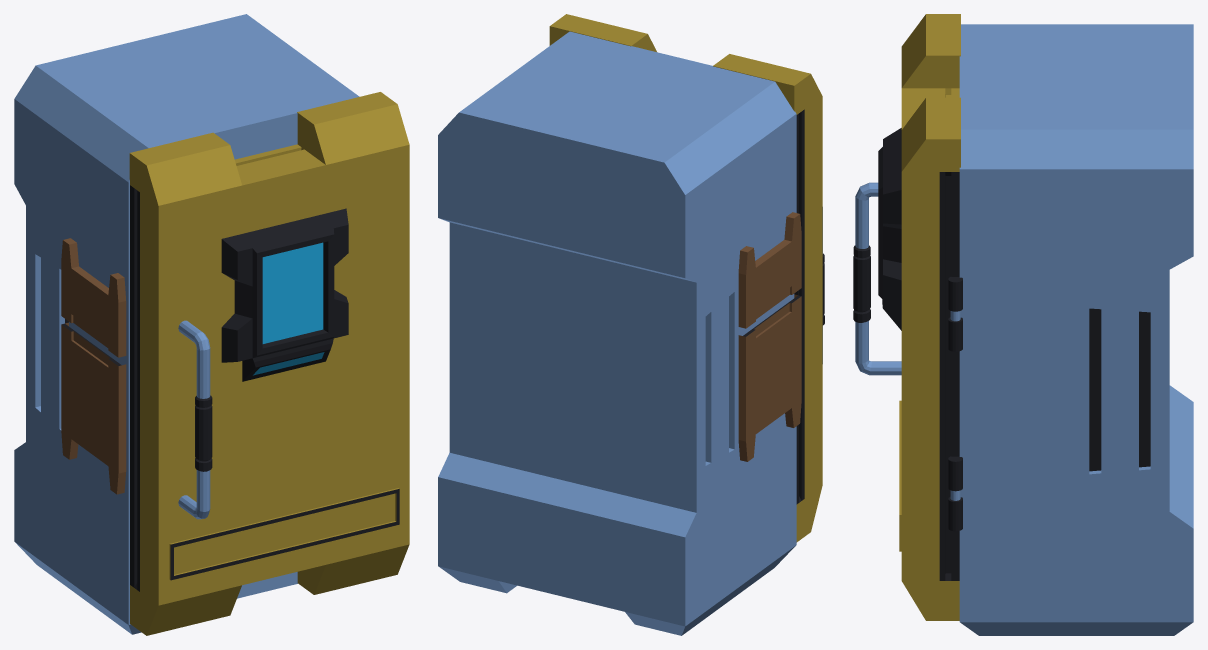
File: Frigo_2.fbx
3 renders of one model, left to right at view 1: azimuth 30°, elevation 25°; view 2: azimuth 150°, elevation 25°; view 3: azimuth 270°, elevation 25°, orthographic. The views are drawn at different scales.
Visible parts, largest first — view 1: Porte, Frigodo_Corps, Planche, Poignée; view 2: Frigodo_Corps, Porte, Planche; view 3: Frigodo_Corps, Porte, Poignée, Verrou, Verrou.001.
Boxes of the visible parts, x1,y1,x2,y2 form: Porte: [129, 92, 409, 635]; Frigodo_Corps: [14, 14, 359, 634]; Planche: [61, 238, 126, 494]; Poignée: [178, 320, 212, 519]; Frigodo_Corps: [438, 31, 796, 635]; Porte: [549, 14, 822, 542]; Planche: [738, 212, 801, 461]; Frigodo_Corps: [959, 24, 1193, 635]; Porte: [878, 14, 960, 620]; Poignée: [853, 182, 901, 375]; Verrou: [948, 456, 962, 531]; Verrou.001: [948, 277, 962, 351].
Size of the model in its own units: 1.07 by 1.13 by 1.85.
